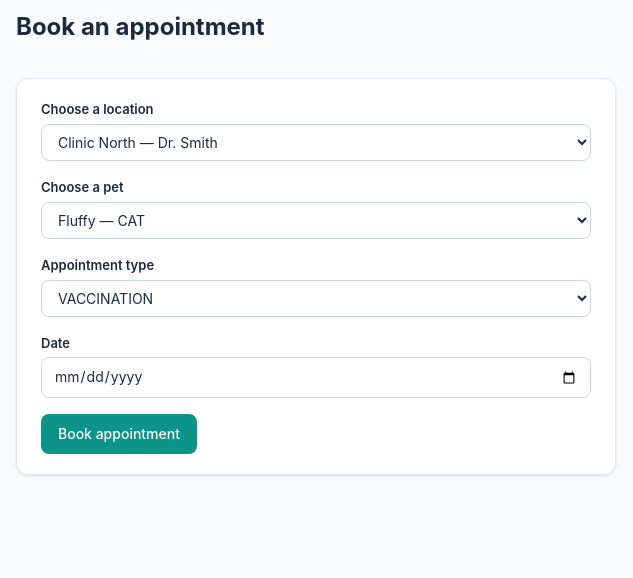
Test: AppointmentBookingPage › shows an error when fetching slots fails
Type "2099-12-31" into the date field at (316, 378), box [41,357,591,398]
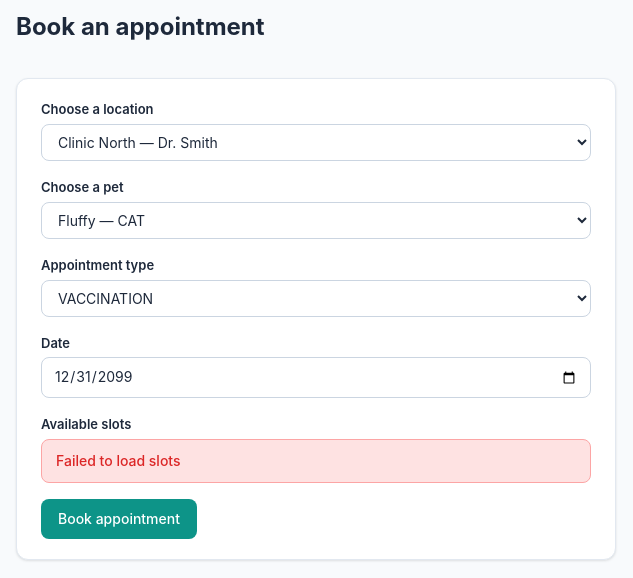
Expected: the text "Failed to load slots" is shown, [41,439,591,483]
